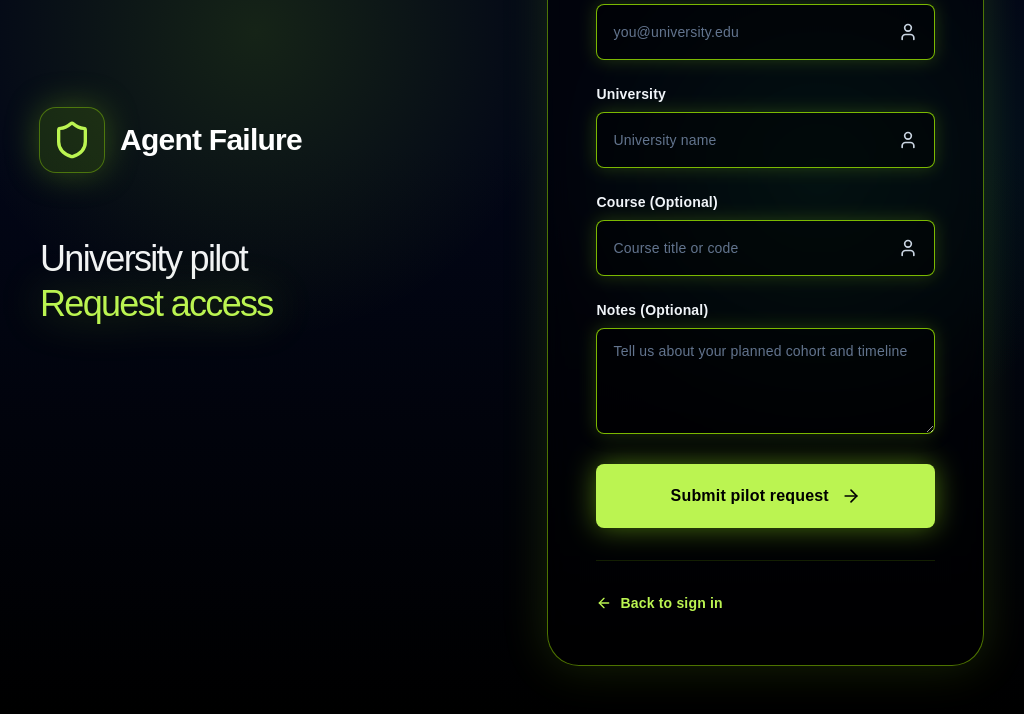
Scenario: PilotRequestPage › shows schema validation errors without submitting invalid data
The width and height of the screenshot is (1024, 714).
(page scrolled)
Click the button "Submit pilot request" at (766, 496), box [596,464,935,528]
(page scrolled)
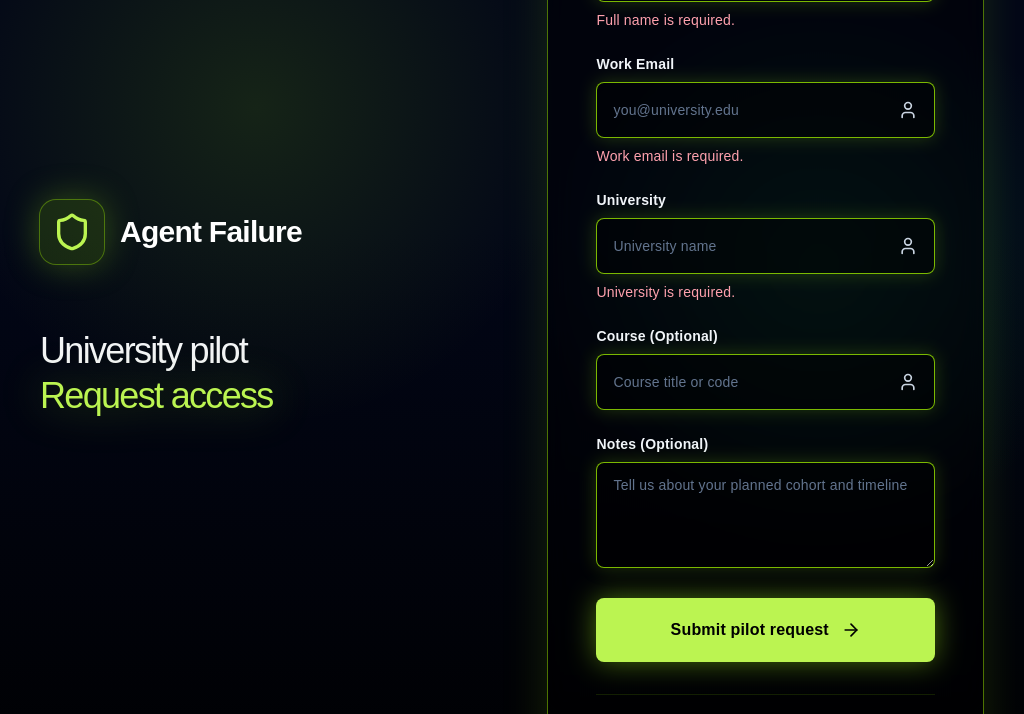
Expected: the text "Full name is required." is shown, [596,12,735,28]
Expected: the text "Work email is required." is shown, [596,148,744,164]
Expected: the text "University is required." is shown, [596,284,735,300]
